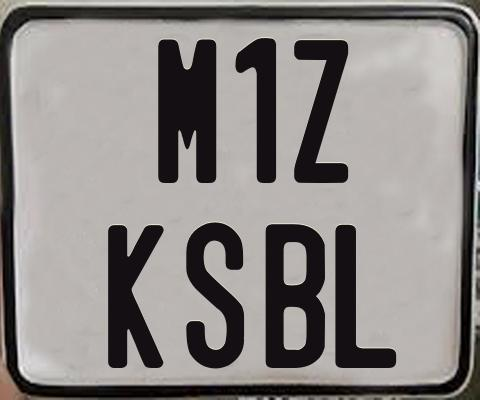1: (233, 35, 274, 182)
B: (265, 221, 326, 371)
K: (108, 224, 164, 370)
L: (334, 223, 397, 371)
M: (157, 37, 220, 182)
S: (184, 222, 246, 371)
Z: (294, 39, 348, 187)
